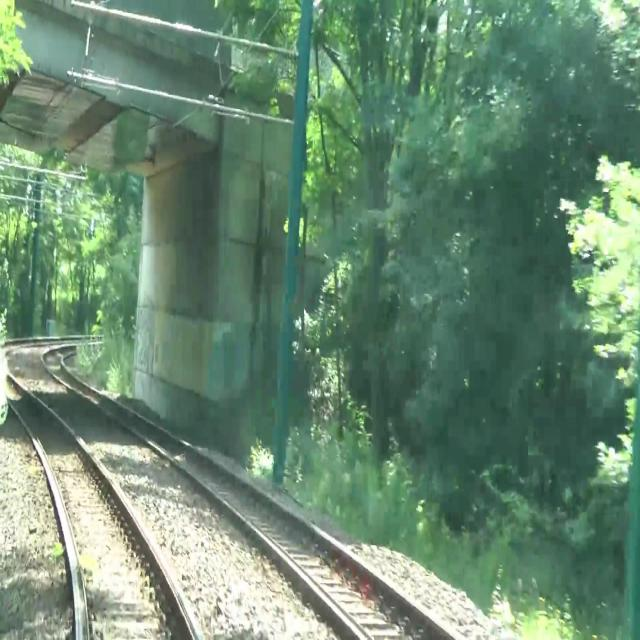rail-track: (44, 348, 450, 639), (2, 365, 194, 639)
